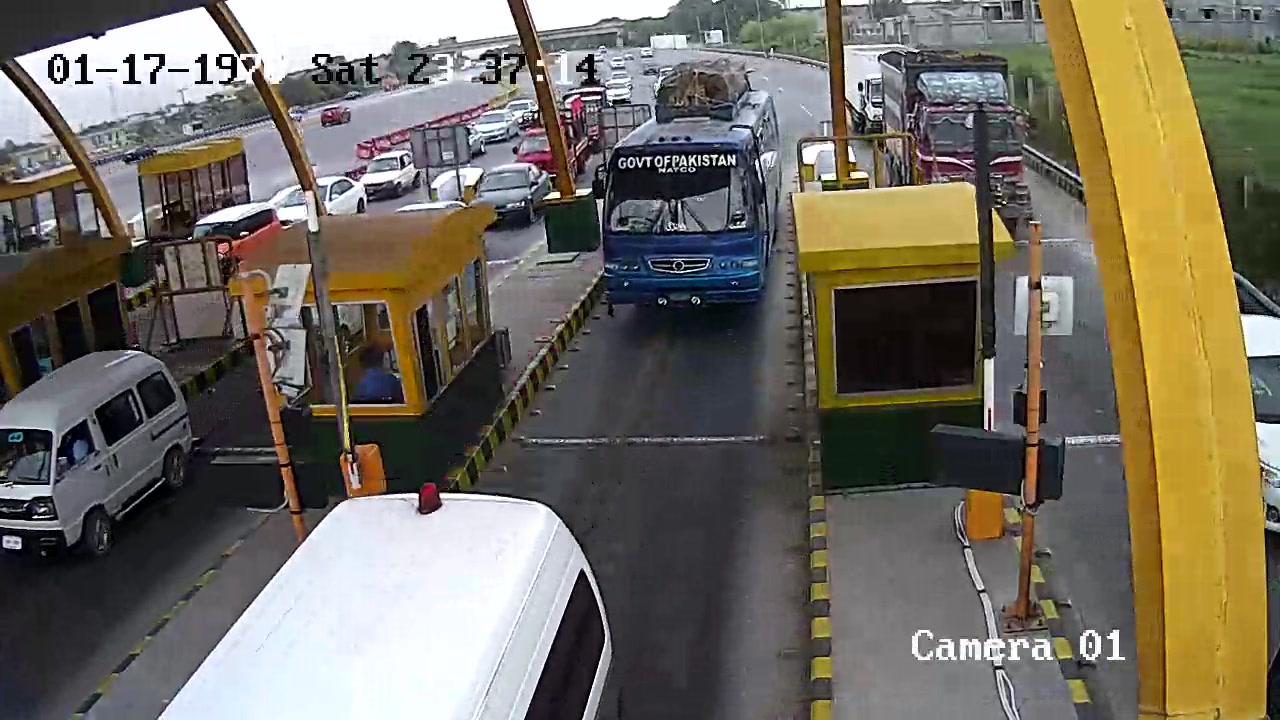F4: (599, 66, 787, 316)
